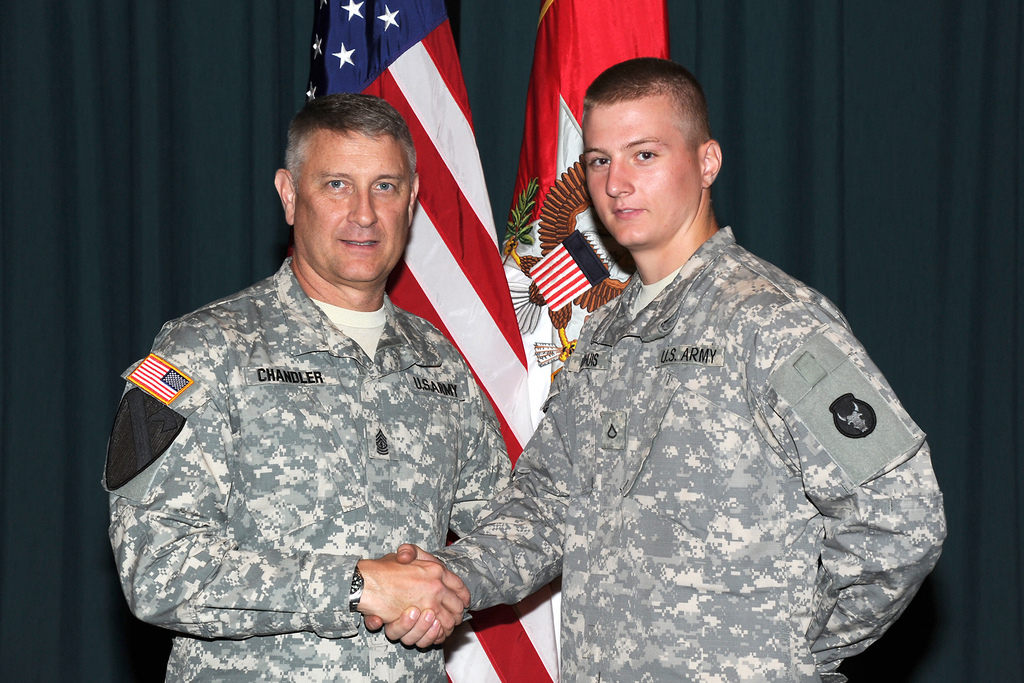Person: (363, 56, 947, 683), (100, 92, 511, 683)
